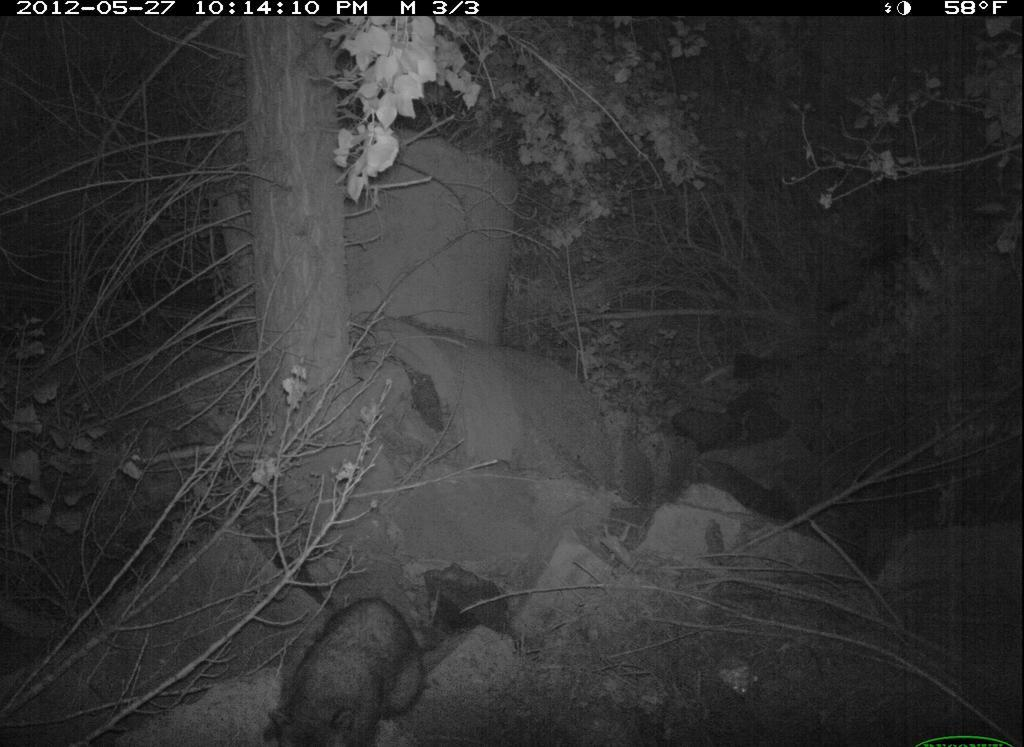raccoon: (257, 596, 436, 745)
